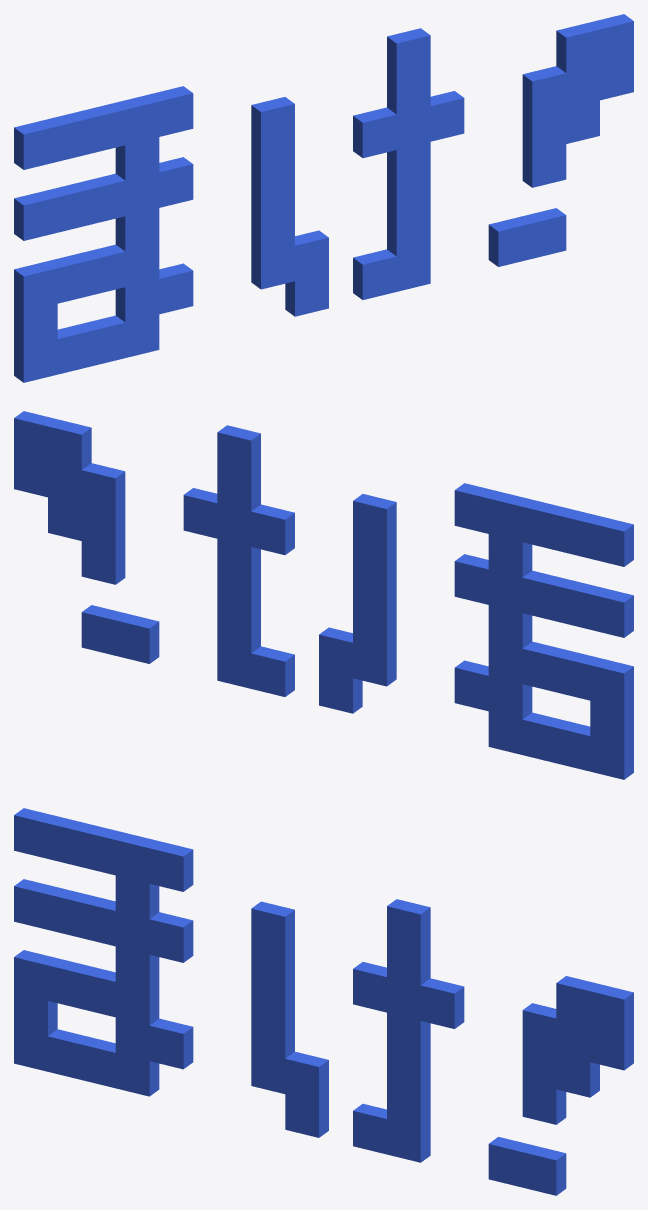
Rendered from lose.obj.
3 renders of one model, top to bottom at view 1: azimuth 30°, elevation 25°; view 2: azimuth 150°, elevation 25°; view 3: azimuth 330°, elevation 25°, orthographic.
Bounding box in the file's own units: 3.6 × 1.4 × 0.1.
